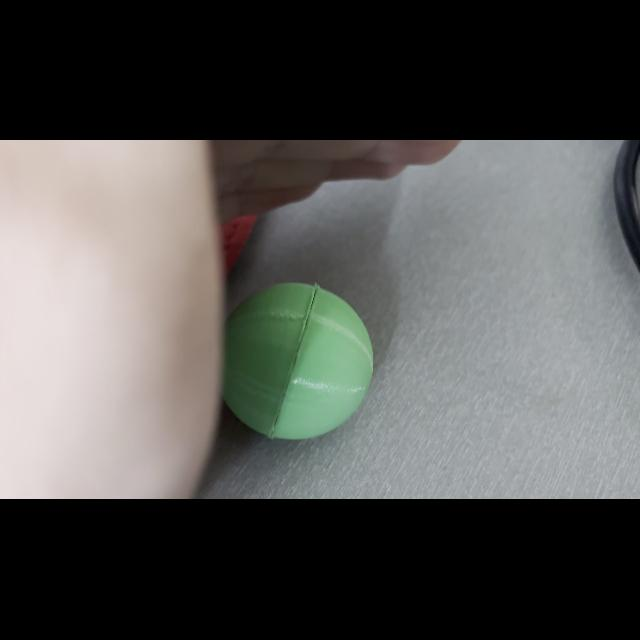objects: (222, 275, 380, 445)
